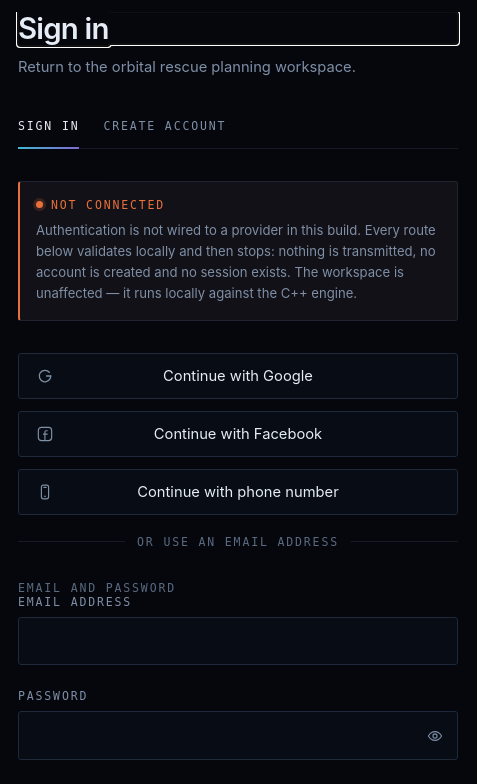
Test: AuthForm: the phone route › returns to the email route without carrying the phone error with it
The image size is (477, 784).
Click the button "Continue with phone number": x=238, y=492 [18, 469, 458, 515]
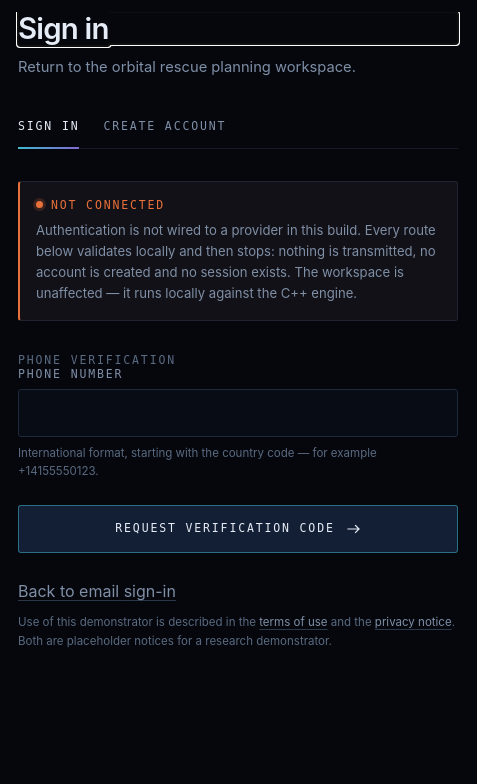
Click the button "Request verification code": x=238, y=529 [18, 505, 458, 553]
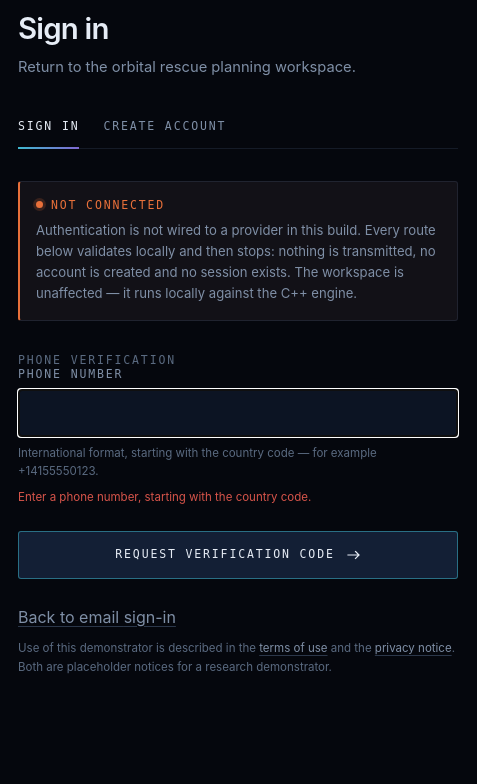
Now the text "Enter a phone number, starting with the country code." is shown, box [18, 490, 311, 504]
Click the button "Back to email sign-in": x=97, y=617 [18, 595, 176, 639]
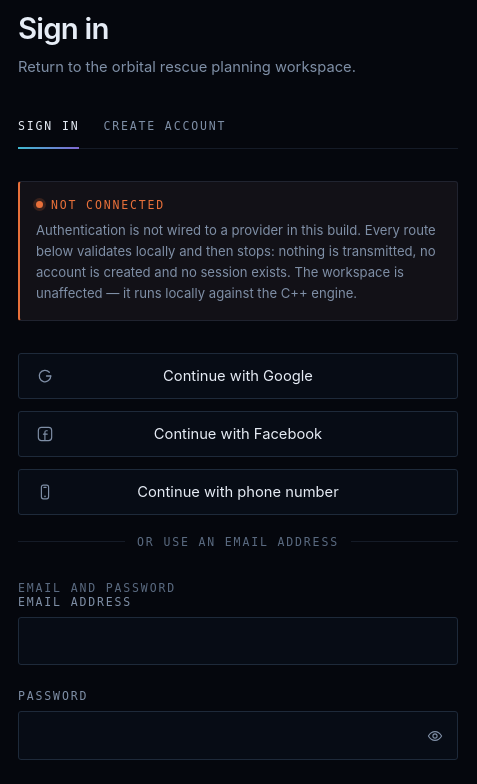
Now the field labelled "Email address" is shown, box [18, 617, 458, 665]
Now the text "Enter a phone number" is gone
